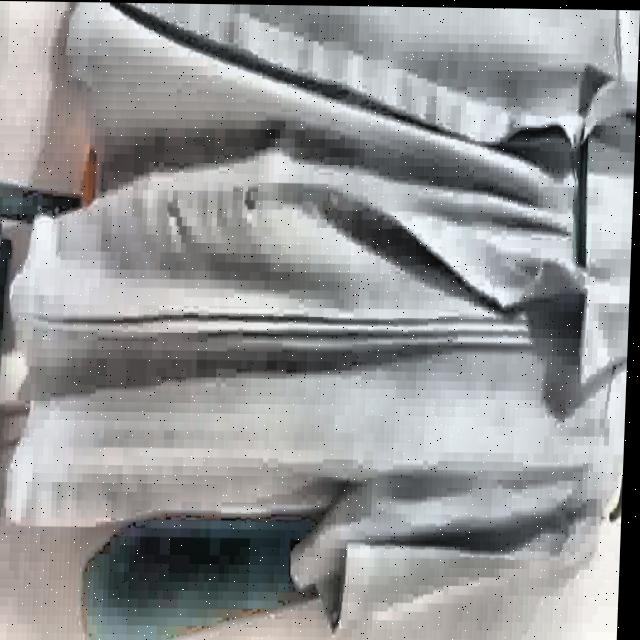clothes: (5, 0, 640, 631)
